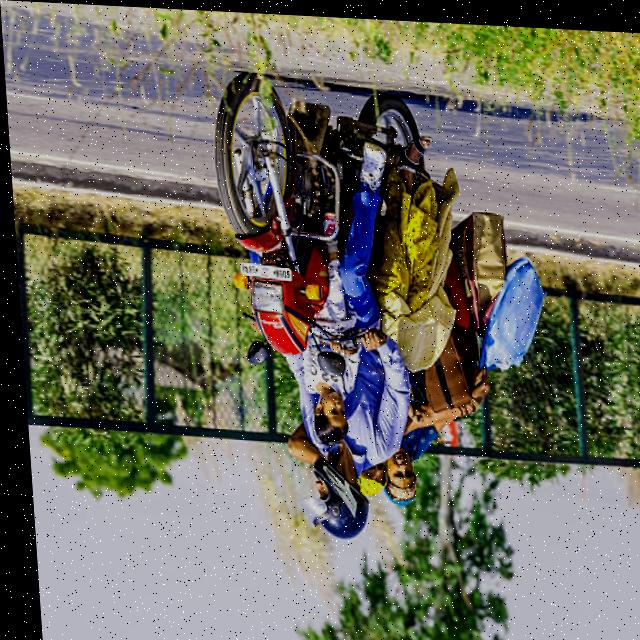plate: (232, 259, 291, 285)
